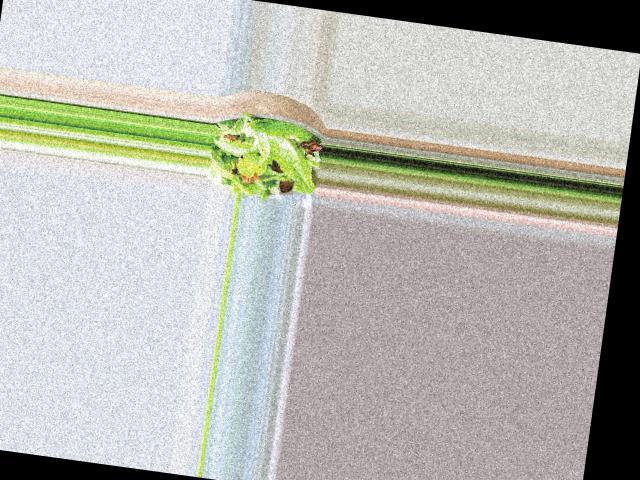lettuce: (211, 111, 315, 201)
